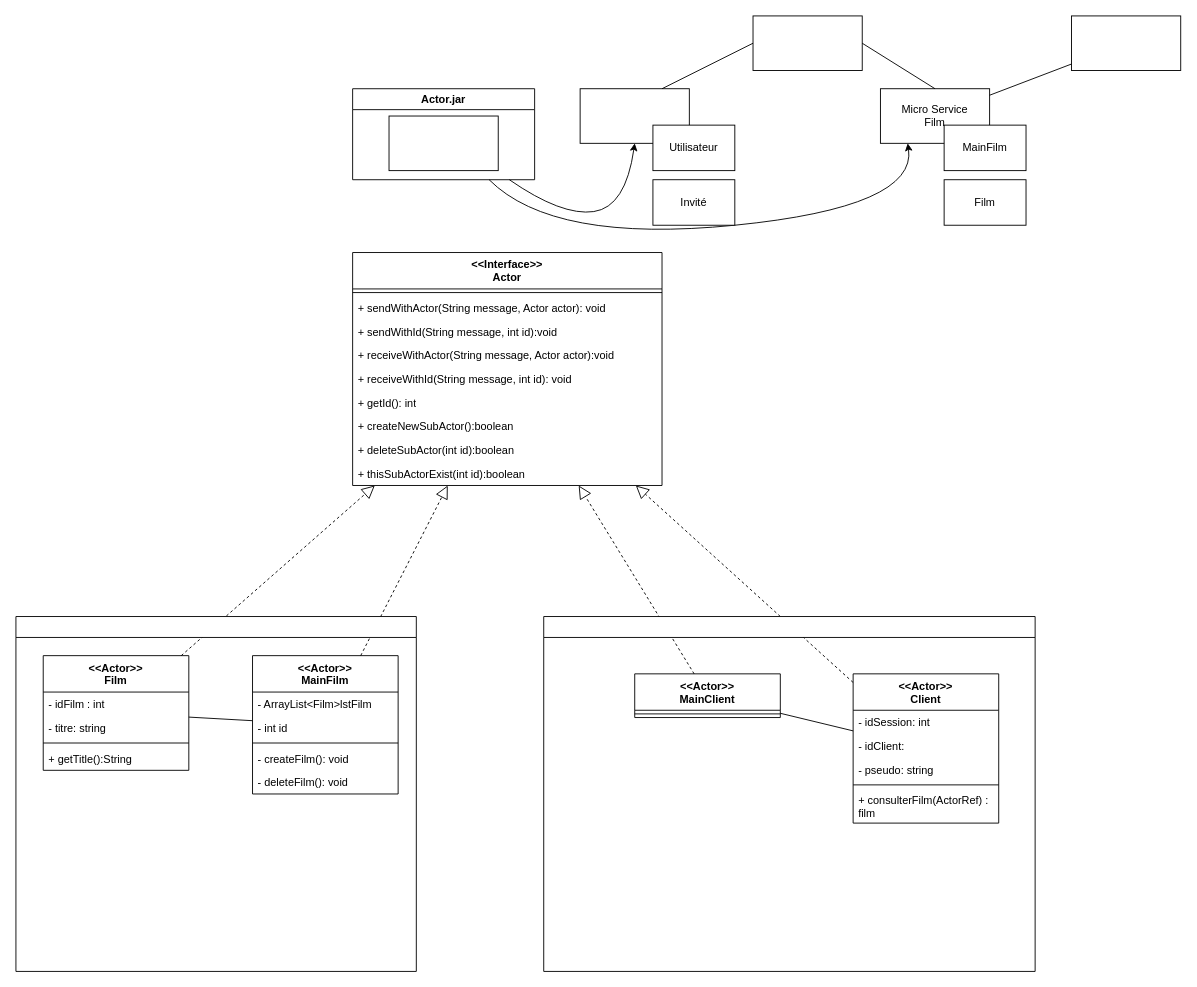
Some shapes in this 1197 by 987 pixel diagram are drawn without their labels. Here are the shapes that lost their labels. From the top down, the centre of each, then its label:
At (807,43): "Eureka serveur".
At (1126,43): "OMDB".
At (634,115): "Micro Service Clients".
At (443,143): "actor".
At (215,793): "MSFilm".
At (789,793): "MSClient".
